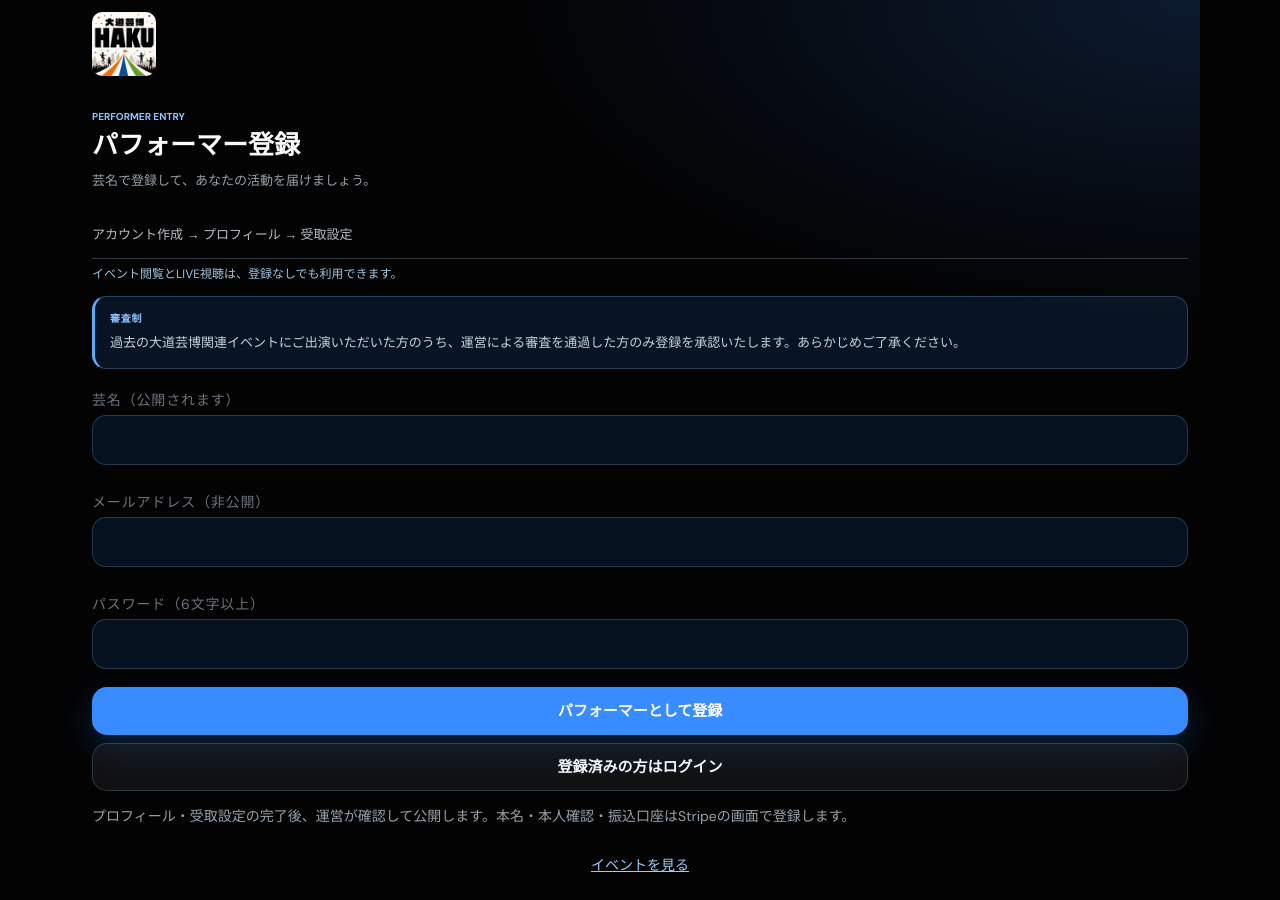
Test: smartphone performer registration › shows email confirmation and can return to login without changing the role
Type "テスト" into the field labelled "芸名（公開されます）".
click(640, 440); type("テスト")  # box top-left (92, 415), bottom-right (1188, 465)
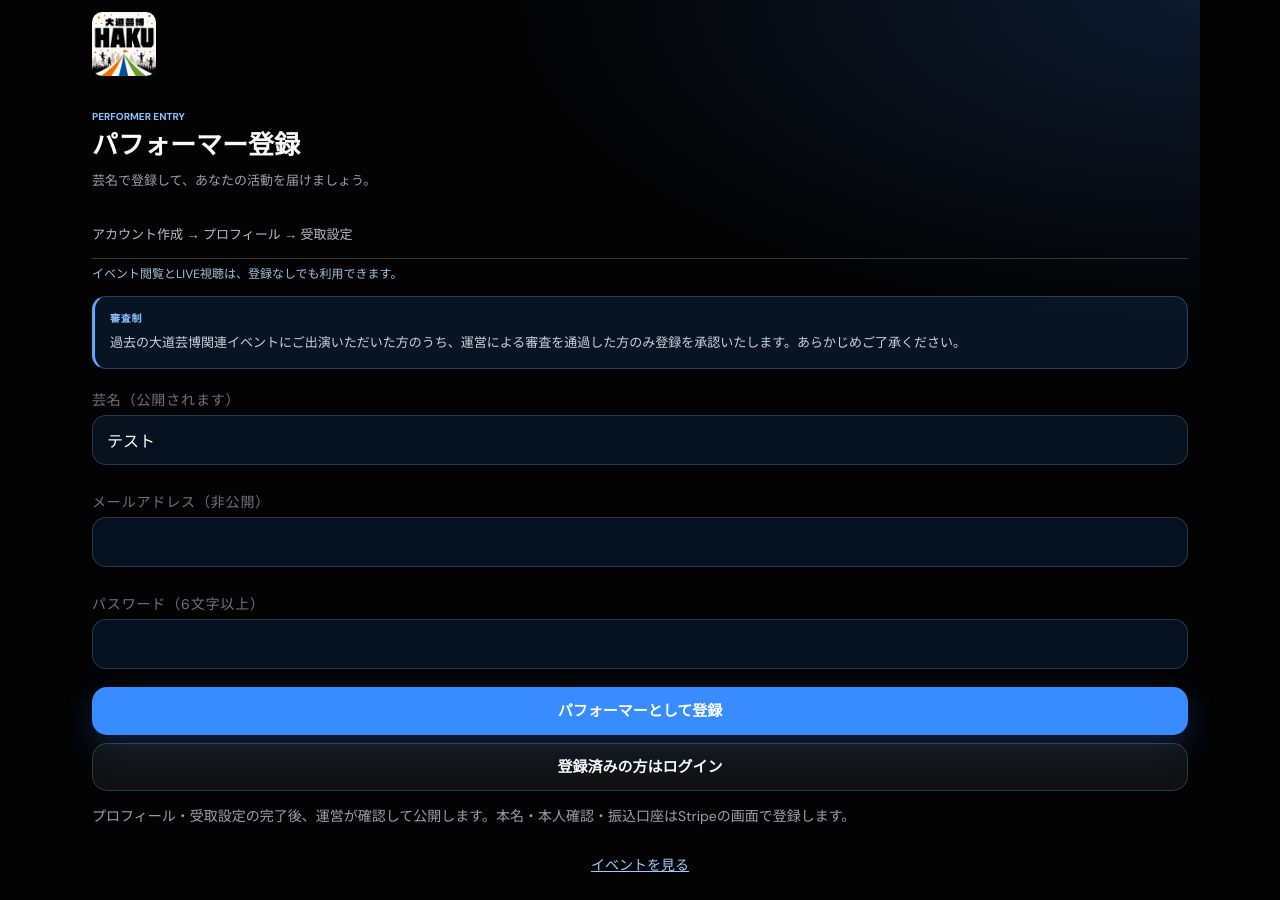
Type "fixture@example.test" into the field labelled "メールアドレス（非公開）".
click(640, 542); type("fixture@example.test")  # box top-left (92, 517), bottom-right (1188, 567)
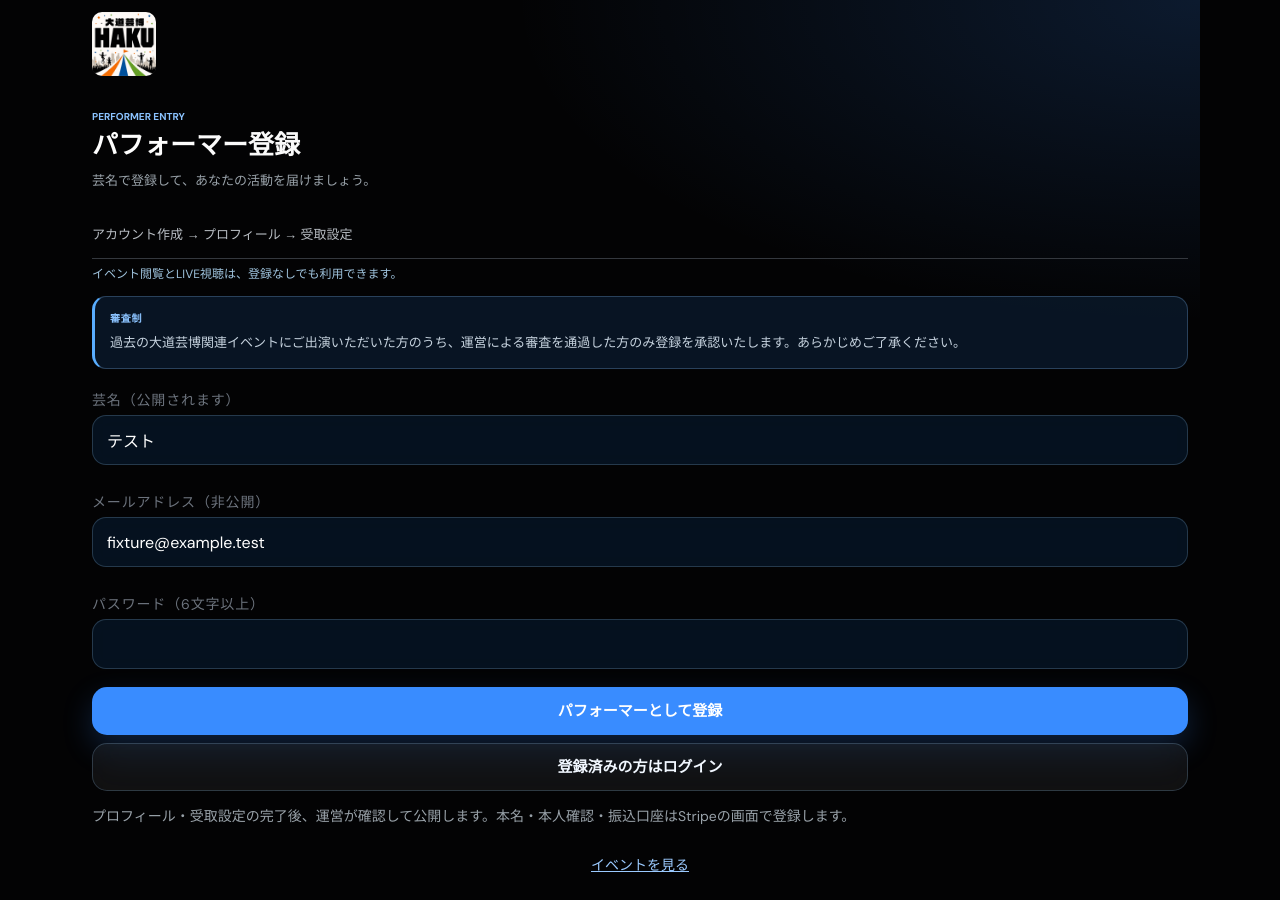
Type "fixture-only-password" into the password field labelled "パスワード（6文字以上）".
click(640, 644); type("fixture-only-password")  # box top-left (92, 619), bottom-right (1188, 669)
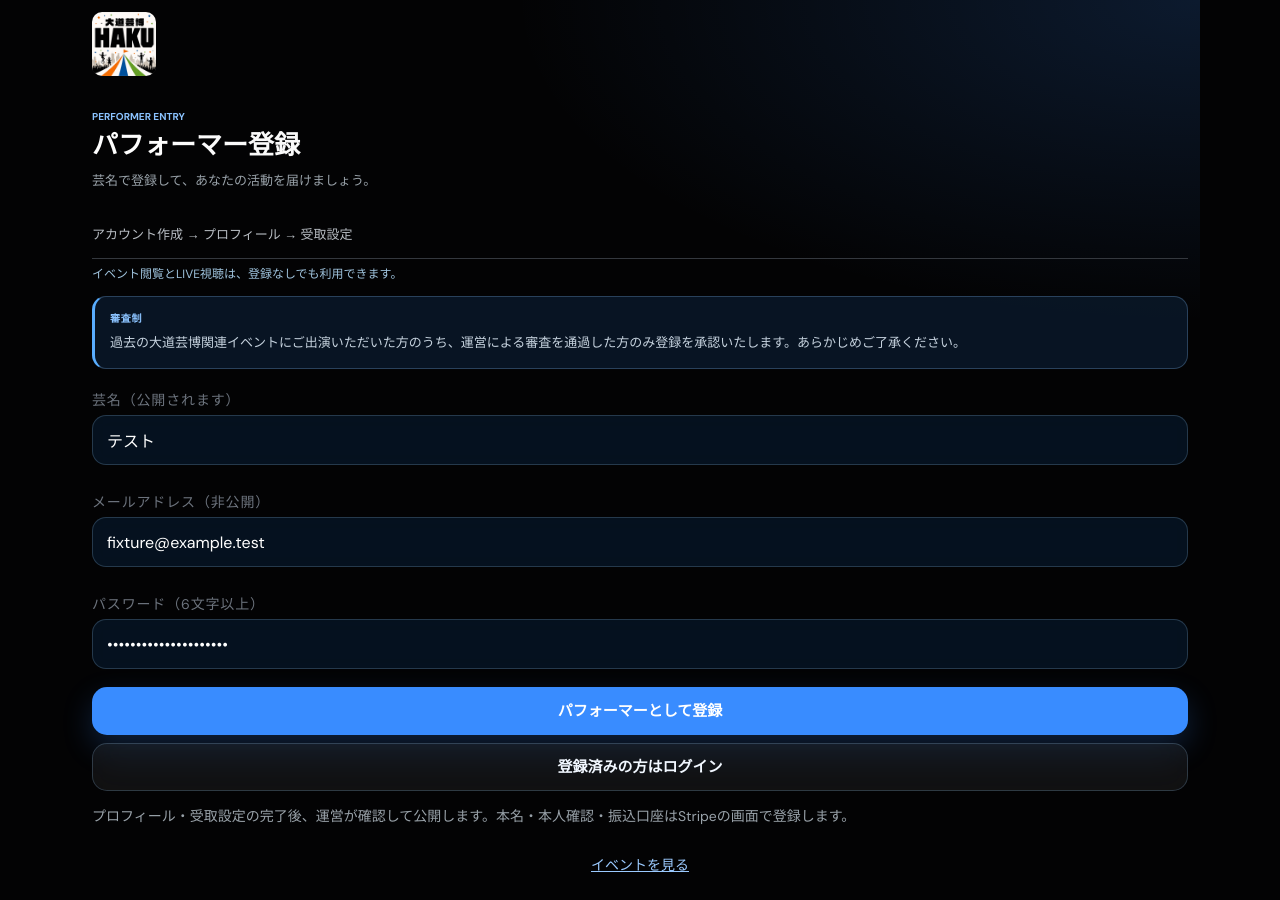
Click the button "パフォーマーとして登録".
click(640, 711)  # box top-left (92, 687), bottom-right (1188, 735)
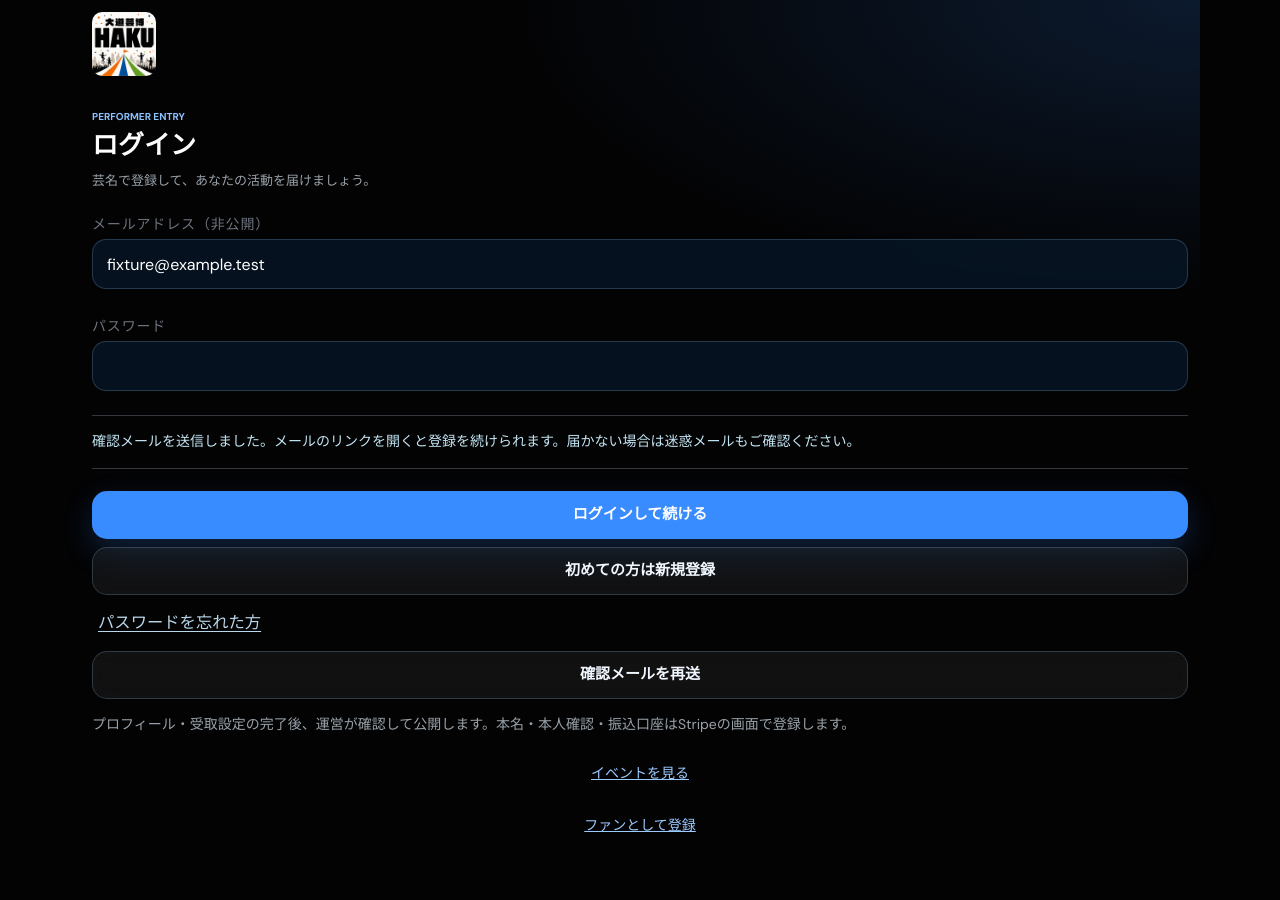
Now the button "ログインして続ける" is shown, box top-left (92, 491), bottom-right (1188, 539)
Now the message shows "確認メール", box top-left (92, 432), bottom-right (861, 450)
Now the button "確認メールを再送" is shown, box top-left (92, 651), bottom-right (1188, 699)
